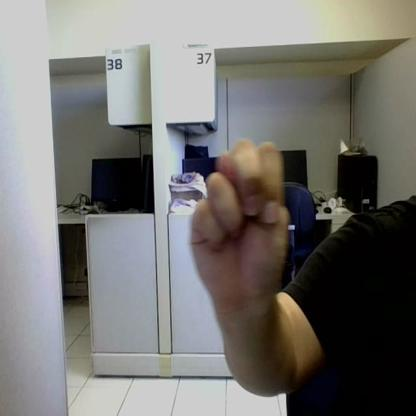N: (192, 139, 289, 308)
